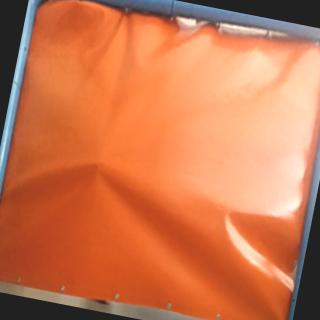Hit-hRxx: (87, 155, 109, 174)
